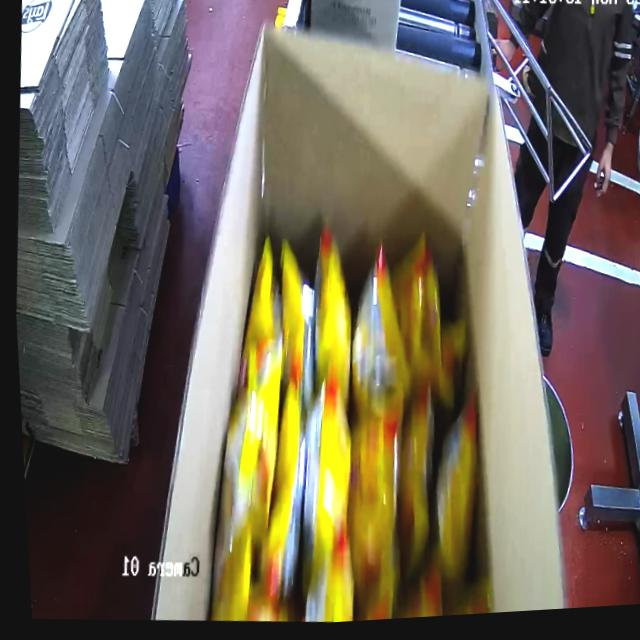SALTED: (178, 206, 498, 630)
